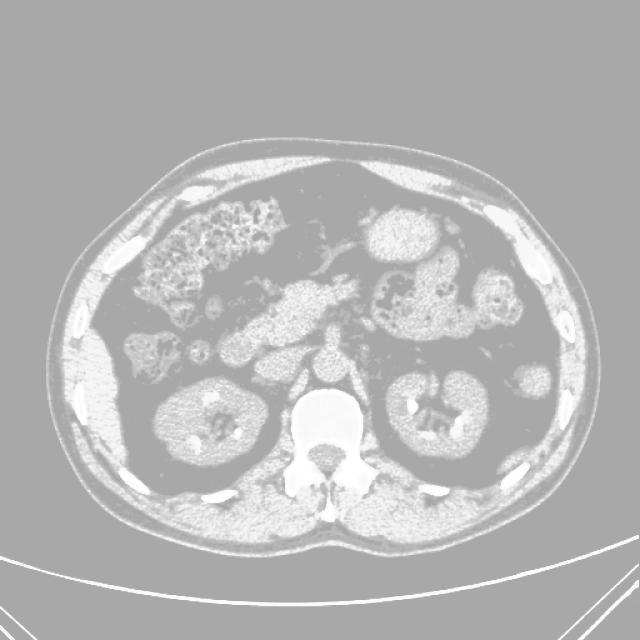STONE: (116, 304, 488, 473)
